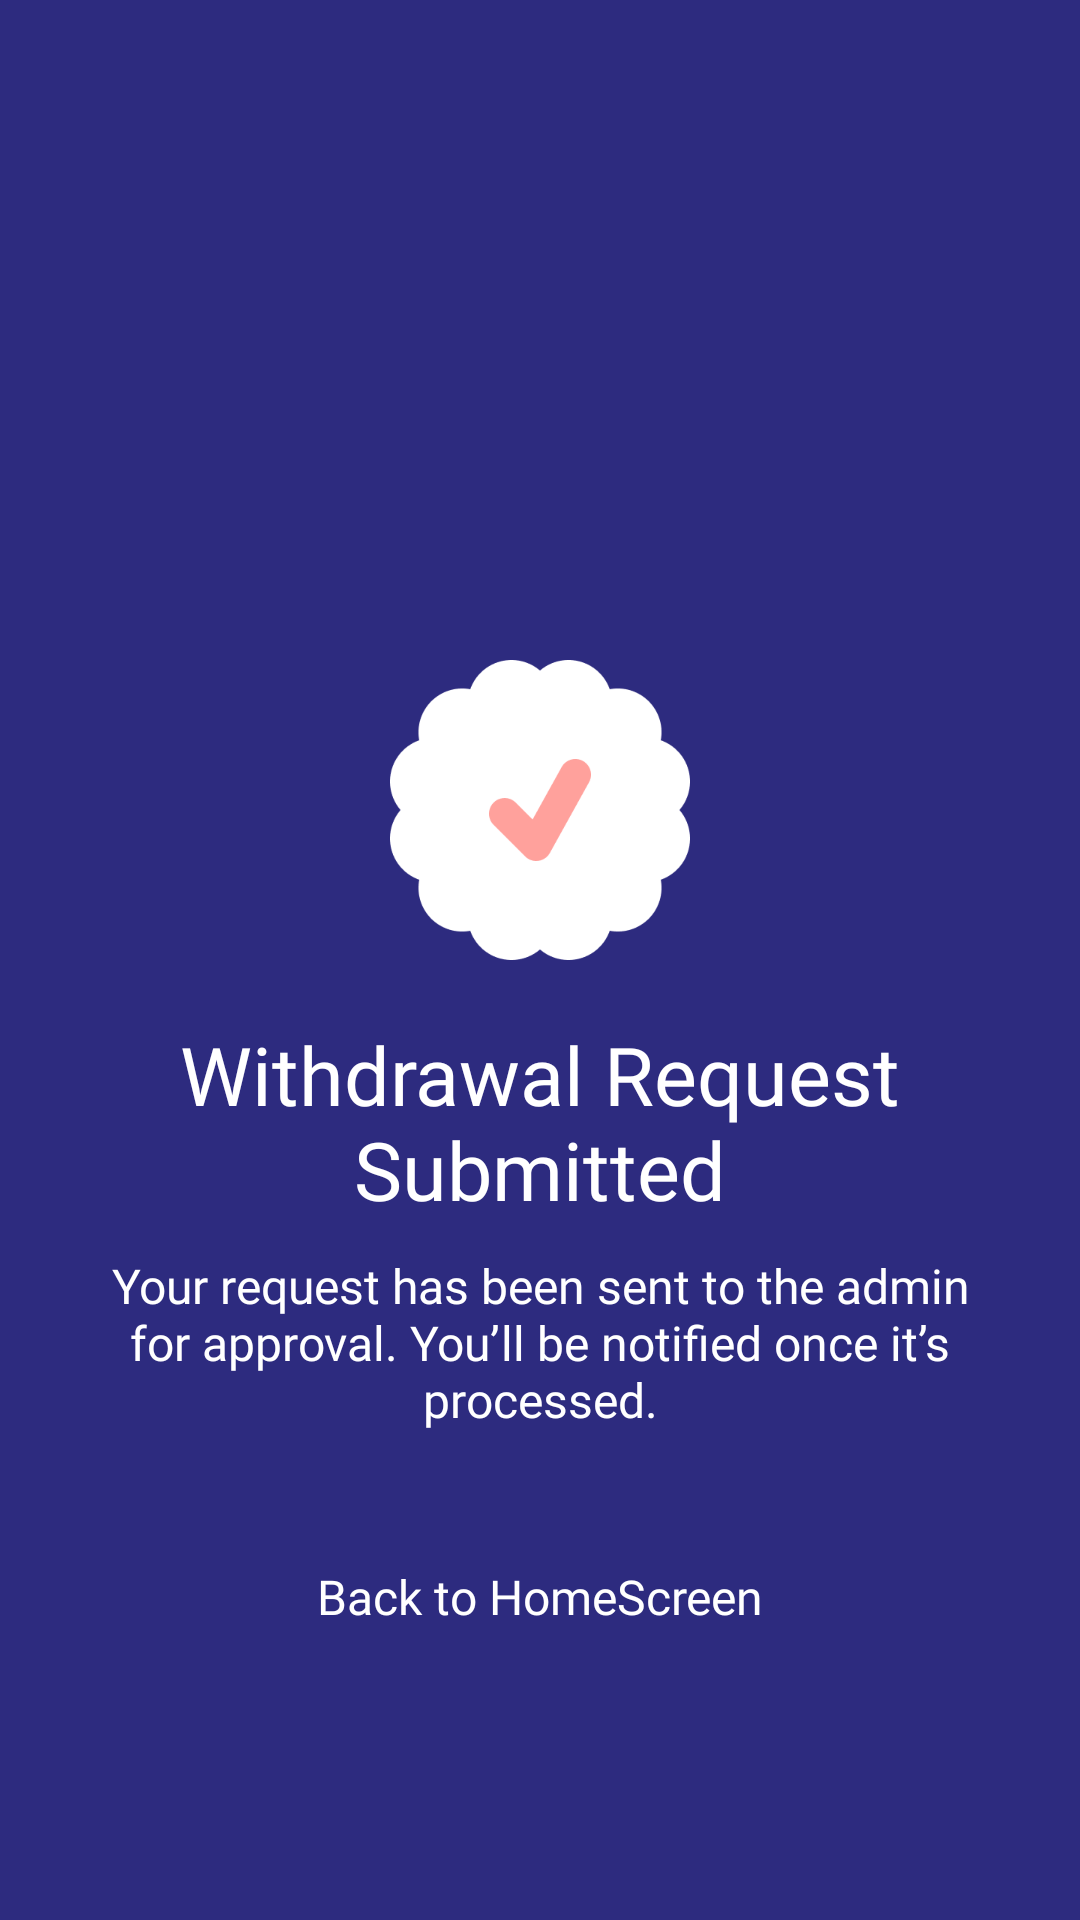

Where to tap for icons on this 1080px x 1920px app screen, as point (x, y):
success mark: point (540, 810)
